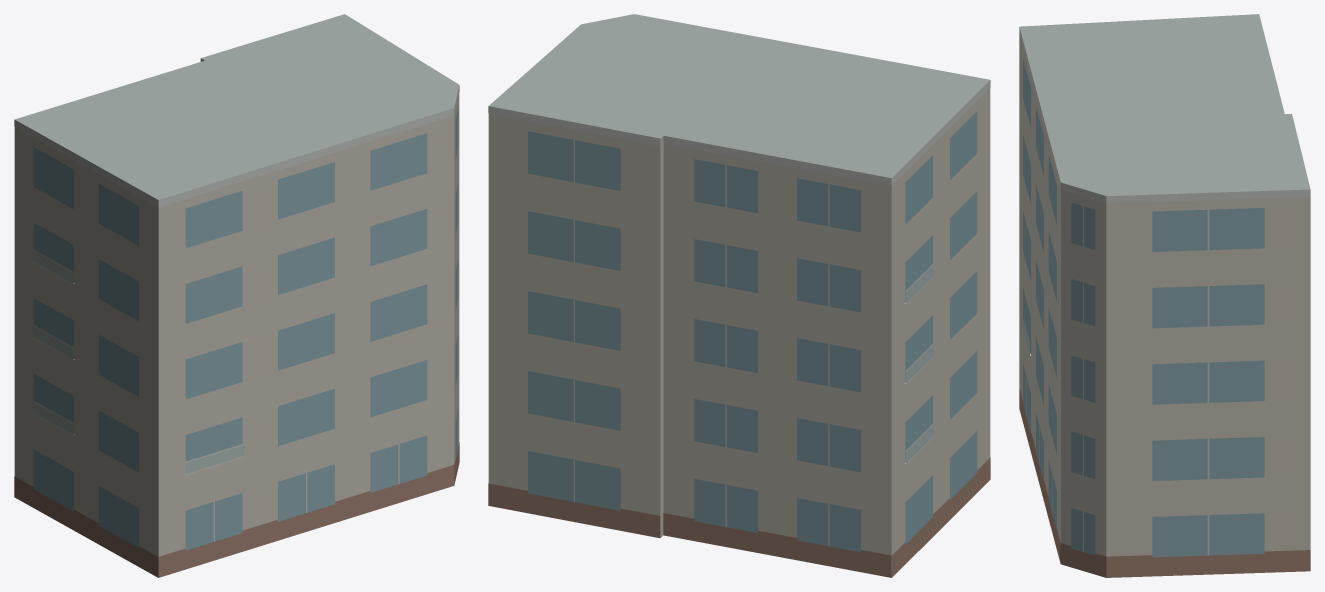
The model's file is survey-upis-32654703.glb.
The picture shows the model from 3 angles, left to right: view 1: azimuth 30°, elevation 25°; view 2: azimuth 150°, elevation 25°; view 3: azimuth 270°, elevation 25°; orthographic projection. The views are drawn at different scales.
Parts seen in each view (by area): view 1: survey-upis-32654703.tmp; view 2: survey-upis-32654703.tmp; view 3: survey-upis-32654703.tmp.
Part boxes in pixels (x1=…): survey-upis-32654703.tmp: x1=14, y1=14, x2=459, y2=577; survey-upis-32654703.tmp: x1=488, y1=14, x2=990, y2=577; survey-upis-32654703.tmp: x1=1019, y1=14, x2=1310, y2=577.
Bounding box in the file's own units: 12.9 × 12.6 × 8.72.
